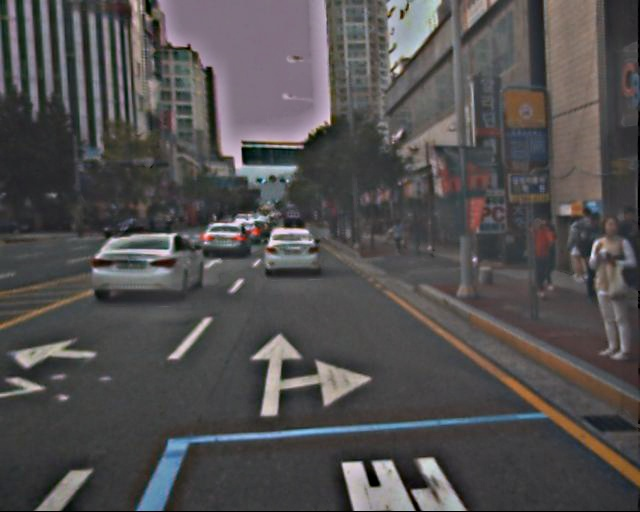person: (577, 215, 638, 364), (560, 208, 638, 282), (520, 215, 554, 299), (409, 214, 427, 257), (392, 219, 407, 255)
